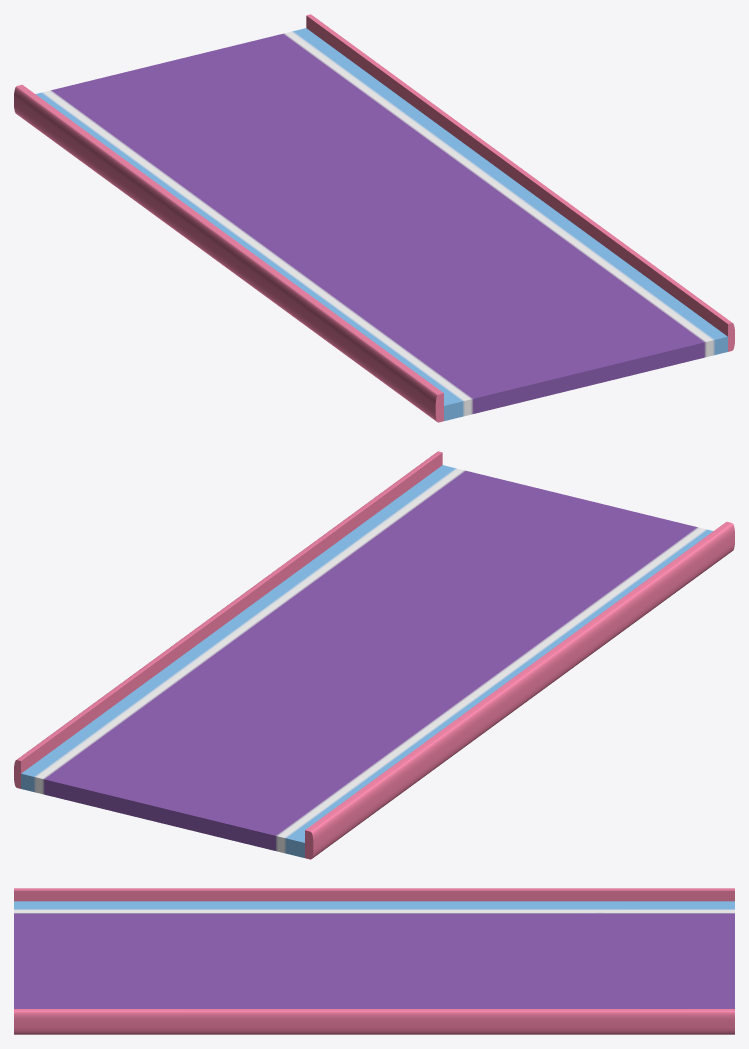
The model's file is Road10M.fbx.
3 views of the same model, one above another, from view 1: azimuth 30°, elevation 25°; view 2: azimuth 150°, elevation 25°; view 3: azimuth 270°, elevation 25° (orthographic). The views are drawn at different scales.
Visible parts, largest first — view 1: Road, Road10_Side; view 2: Road, Road10_Side; view 3: Road, Road10_Side.
Part boxes in pixels (x1,y1,x2,y2): Road: [35, 28, 727, 420]; Road10_Side: [14, 14, 734, 422]; Road: [21, 465, 713, 857]; Road10_Side: [14, 451, 734, 859]; Road: [14, 901, 734, 1008]; Road10_Side: [14, 888, 734, 1034].
Size of the model in its own units: 410 by 36.51 by 1000.
